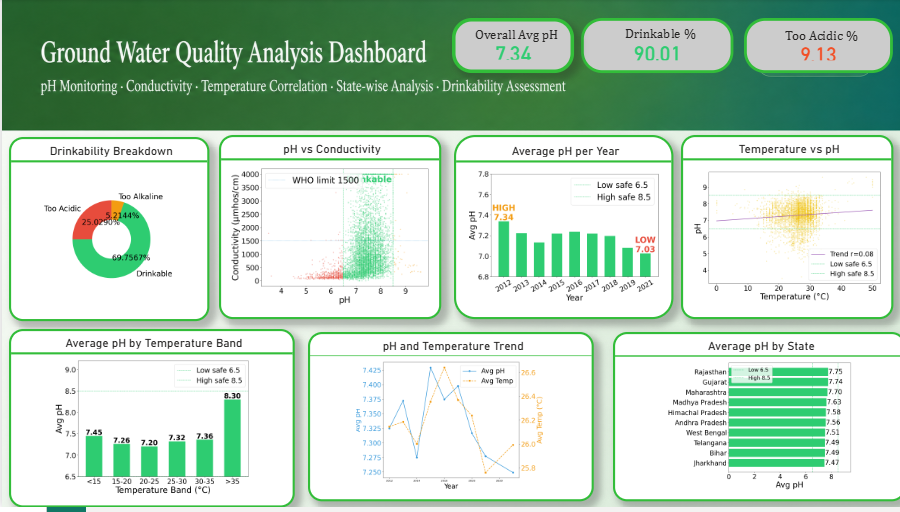

Layout of this report page (visuals, bound fields, positions):
{"tool":"powerbi","page":{"name":"Page 1","canvas":[1280,720],"ordinal":0},"visuals":[{"type":"pythonVisual","title":"Average pH by State","fields":{"Values":["Sheet1.STATE","Sheet1.pH Min","Sheet1.pH Max"]},"box":[865.6,471.3,415,240.5],"z":0},{"type":"pythonVisual","title":"Drinkability Breakdown","fields":{"Values":["Sheet1.pH Max","Sheet1.pH Min"]},"box":[10.3,196.1,283.9,260.6],"z":1000},{"type":"pythonVisual","title":"Average pH per Year","fields":{"Values":["Sheet1.pH Min","Sheet1.pH Max","Sheet1.Year"]},"box":[640.3,192.4,310.5,261.1],"z":2000},{"type":"pythonVisual","title":"pH vs Conductivity","fields":{"Values":["Sheet1.pH Min","Sheet1.pH Max","Sheet1.Conductivity (µmhos/cm) Max","Sheet1.Conductivity (µmhos/cm) Min","Sheet1.STATE"]},"box":[307.8,192.4,314.7,261.1],"z":3000},{"type":"pythonVisual","title":"Temperature vs pH","fields":{"Values":["Sheet1.Temperature Max","Sheet1.Temperature Min","Sheet1.pH Max","Sheet1.pH Min"]},"box":[961.8,192.4,300.9,261.1],"z":4000},{"type":"pythonVisual","title":"Average pH by Temperature Band","fields":{"Values":["Sheet1.pH Max","Sheet1.pH Min","Sheet1.Temperature Min","Sheet1.Temperature Max"]},"box":[10.3,467.1,405.2,252.9],"z":5000},{"type":"pythonVisual","title":"pH and Temperature Trend","fields":{"Values":["Sheet1.Temperature Max","Sheet1.Temperature Min","Sheet1.pH Max","Sheet1.pH Min","Sheet1.Year"]},"box":[434.2,471.3,405.3,240.5],"z":6000},{"type":"card","title":"Drinkable %","fields":{"Values":["Sheet1.Drinkable %"]},"box":[820.3,27.5,216.1,78.5],"z":7000},{"type":"card","title":" Too Acidic %  ","fields":{"Values":["Sheet1.Too Acidic %"]},"box":[1051.5,27.5,210.6,78.5],"z":8000},{"type":"card","title":"Overall Avg pH ","fields":{"Values":["Sheet1.Avg pH."]},"box":[638,27.5,173.4,78.5],"z":9000}]}

Visuals, with their boxes in screenshot pixels (x1, y1, x2, y2), scaled from the page's 1280x720 canvas onto the 900x512 screenshot:
"Average pH by State" pythonVisual: <box>609,335,899,506</box>
"Drinkability Breakdown" pythonVisual: <box>7,139,207,325</box>
"Average pH per Year" pythonVisual: <box>450,137,669,322</box>
"pH vs Conductivity" pythonVisual: <box>216,137,438,322</box>
"Temperature vs pH" pythonVisual: <box>676,137,888,322</box>
"Average pH by Temperature Band" pythonVisual: <box>7,332,292,511</box>
"pH and Temperature Trend" pythonVisual: <box>305,335,590,506</box>
"Drinkable %" card: <box>577,20,729,75</box>
" Too Acidic %  " card: <box>739,20,887,75</box>
"Overall Avg pH " card: <box>449,20,571,75</box>
